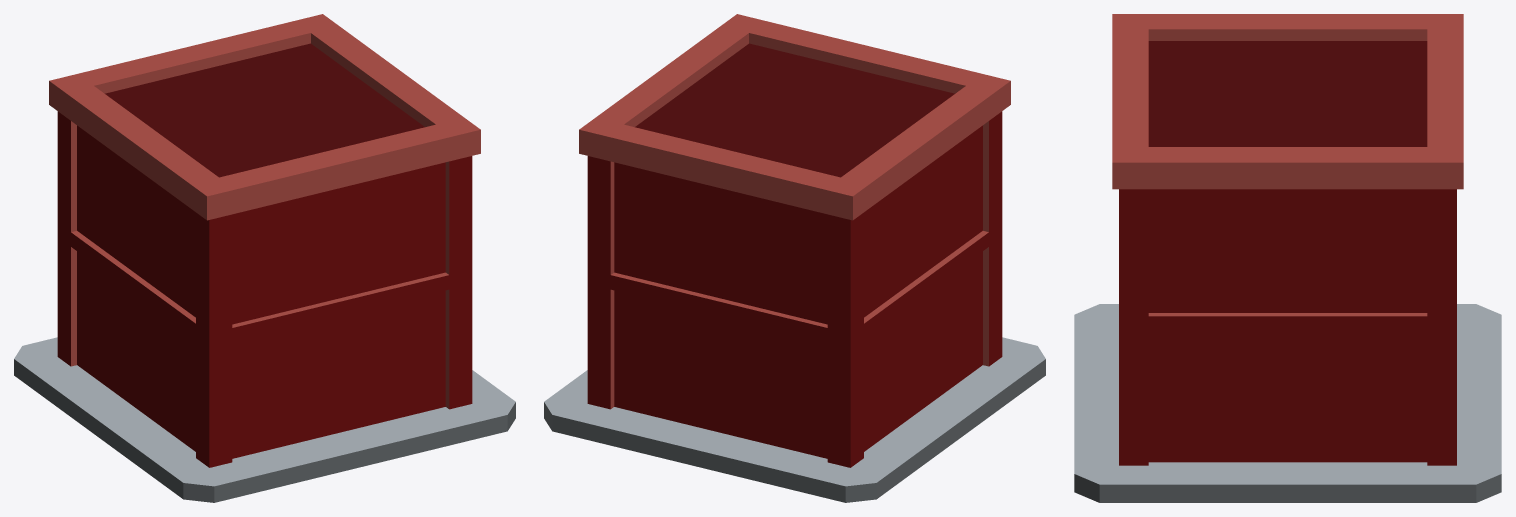
The model's file is Office.fbx.
The picture shows the model from 3 angles, left to right: view 1: azimuth 30°, elevation 25°; view 2: azimuth 150°, elevation 25°; view 3: azimuth 270°, elevation 25°; orthographic projection. The views are drawn at different scales.
Visible parts, largest first — view 1: Office, Office_Bottom; view 2: Office, Office_Bottom; view 3: Office, Office_Bottom.
Boxes of the visible parts, left/top/right/bottom form: Office: left=49, top=14, right=480, bottom=467; Office_Bottom: left=14, top=337, right=515, bottom=502; Office: left=579, top=14, right=1010, bottom=467; Office_Bottom: left=544, top=337, right=1045, bottom=502; Office: left=1112, top=14, right=1463, bottom=465; Office_Bottom: left=1074, top=304, right=1501, bottom=502.
Size of the model in its own units: 64.51 by 54.07 by 64.51.
